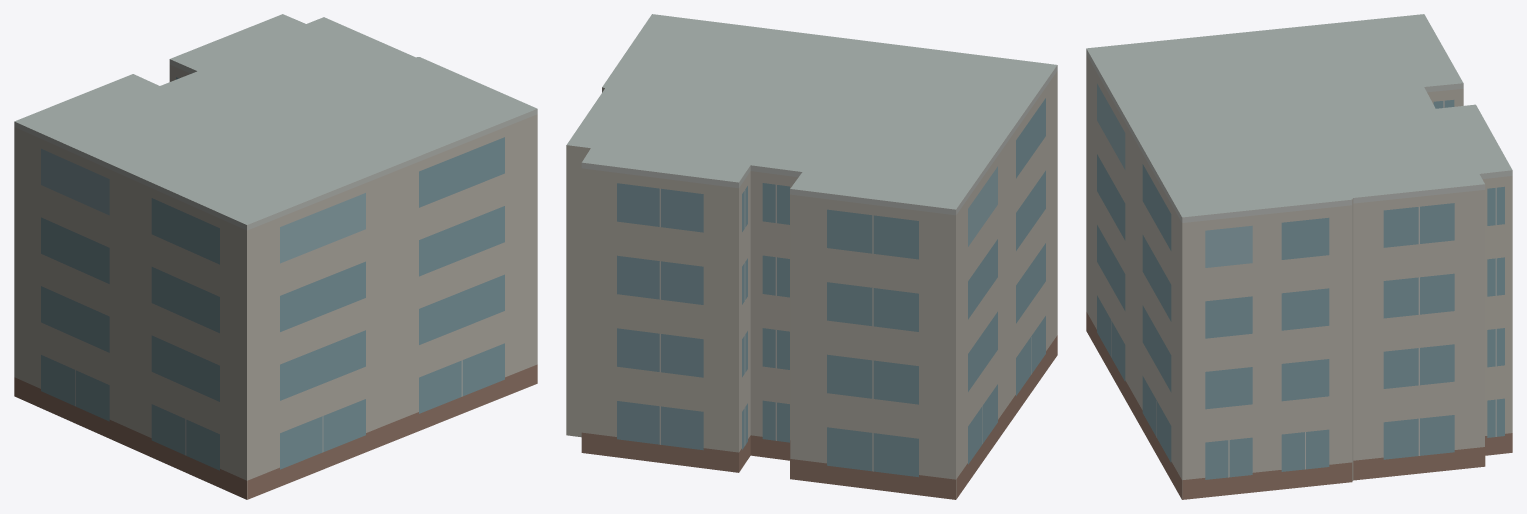
Rendered from survey-upis-32820327.glb.
3 views of the same model, side by side, from view 1: azimuth 30°, elevation 25°; view 2: azimuth 150°, elevation 25°; view 3: azimuth 270°, elevation 25° (orthographic). The views are drawn at different scales.
Parts seen in each view (by area): view 1: survey-upis-32820327.tmp; view 2: survey-upis-32820327.tmp; view 3: survey-upis-32820327.tmp.
Boxes of the visible parts, x1,y1,x2,y2 form: survey-upis-32820327.tmp: (14, 14, 537, 499); survey-upis-32820327.tmp: (566, 14, 1057, 499); survey-upis-32820327.tmp: (1086, 14, 1512, 499).
Bounding box in the file's own units: 19.01 × 12.3 × 16.84.
